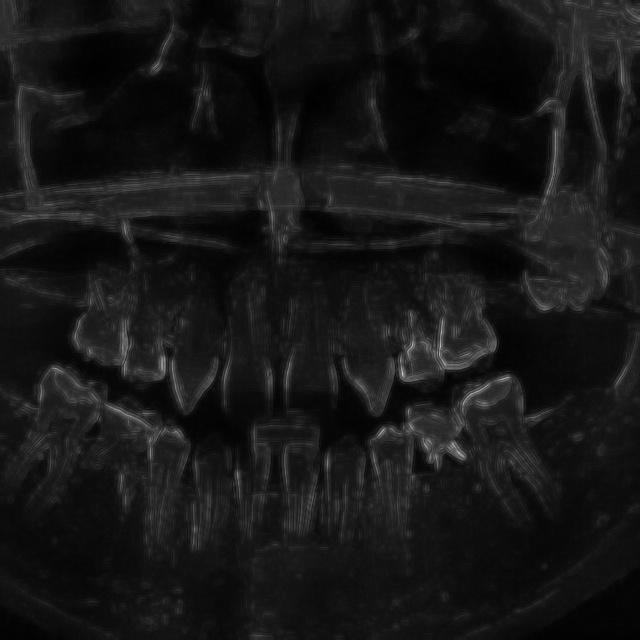Class 2- incomplete endodontic treatment: (389, 391, 479, 509)
cavity: (190, 429, 370, 591), (457, 376, 580, 555)
